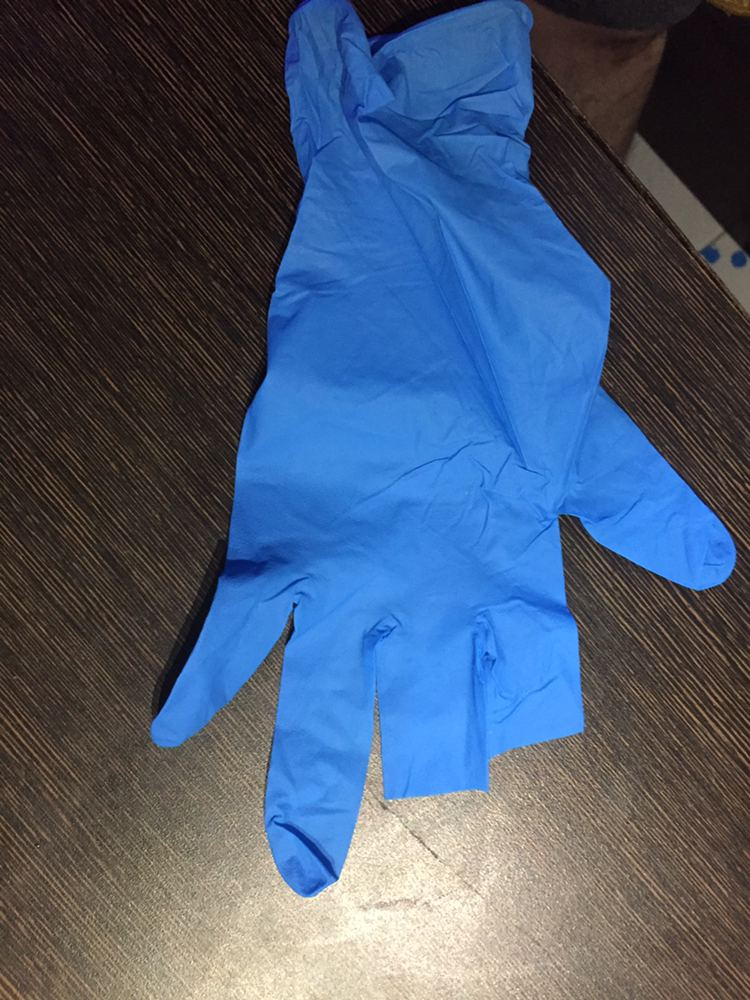defected: (150, 83, 748, 889)
